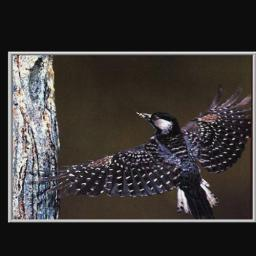Woodpecker: (34, 88, 252, 217)
